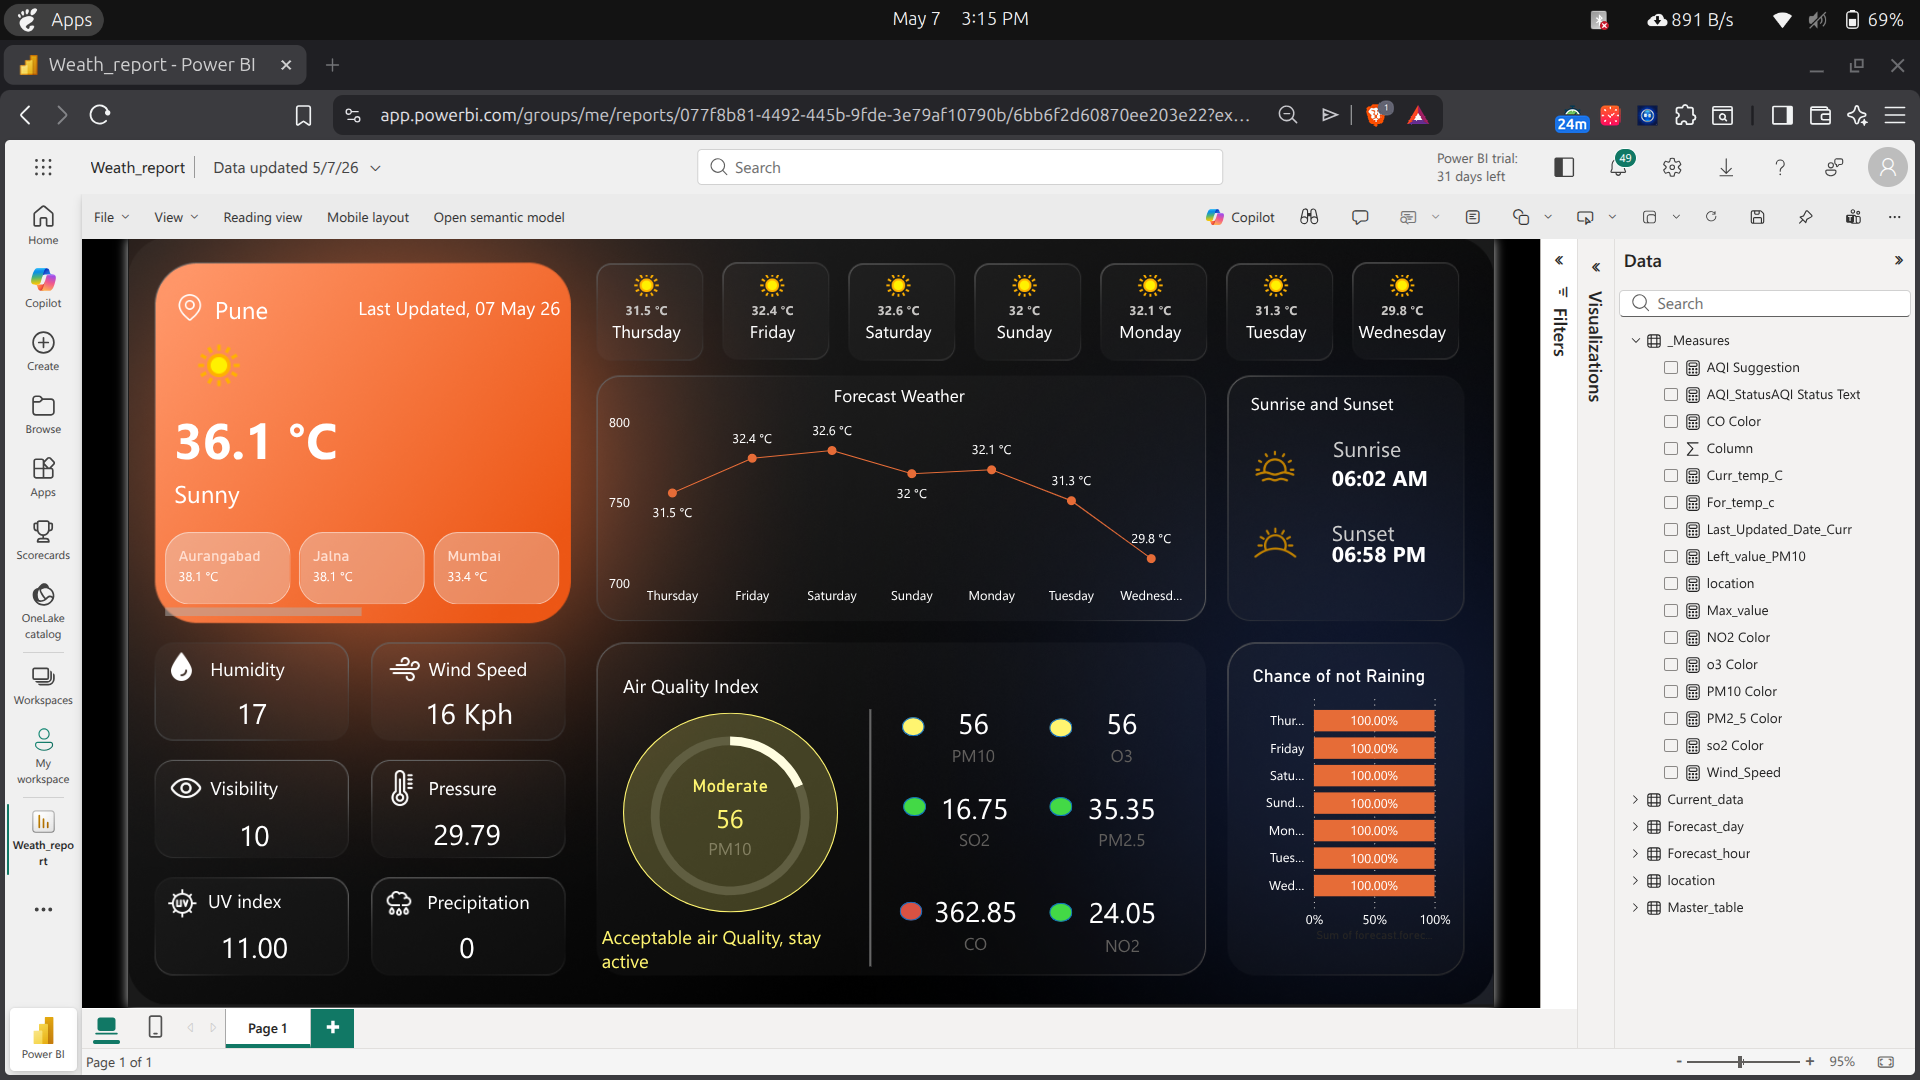

The page's visual inventory and layout, read from the dashboard file:
{"tool":"powerbi","page":{"name":"Page 1","canvas":[1280,720],"ordinal":0},"visuals":[{"type":"advancedSlicerVisual","fields":{"Values":["location.location.name"]},"box":[30,268.7,381.4,91.2],"z":0},{"type":"shape","box":[43.2,135.5,217.1,103.2],"z":1000},{"type":"shape","box":[43.2,221.9,166.7,32.4],"z":2000},{"type":"shape","box":[206.3,44.4,207.5,38.4],"z":3000},{"type":"shape","box":[81.6,49.2,141.5,33.6],"z":4000},{"type":"image","box":[34.8,51.6,46.8,25.2],"z":5000},{"type":"cardVisual","fields":{"Data":["Min(Current_data.current.condition.icon)"]},"box":[19.2,66,133.1,104.4],"z":6000},{"type":"image","box":[34.8,497.8,39.6,33.6],"z":7000},{"type":"image","box":[36,385,28.8,32.4],"z":8000},{"type":"image","box":[236.3,387.4,45.6,30],"z":9000},{"type":"image","box":[231.5,497.8,50.4,33.6],"z":10000},{"type":"image","box":[24,608.1,52.8,28.8],"z":11000},{"type":"image","box":[236.3,608.1,36,28.8],"z":12000},{"type":"shape","box":[76.8,385,123.5,34.8],"z":13000},{"type":"shape","box":[281.9,385,123.5,34.8],"z":14000},{"type":"shape","box":[76.8,496.6,123.5,34.8],"z":15000},{"type":"shape","box":[281.9,496.6,123.5,34.8],"z":16000},{"type":"shape","box":[74.4,602.2,123.5,34.8],"z":17000},{"type":"shape","box":[280.7,603.3,123.5,34.8],"z":18000},{"type":"shape","box":[586.6,238.7,217.1,103.2],"z":19000},{"type":"cardVisual","fields":{"Data":["Sum(Current_data.current.humidity)"]},"box":[34.8,417.4,163.1,51.6],"z":20000},{"type":"cardVisual","fields":{"Data":["_Measures.Wind_Speed"]},"box":[236.3,417.4,167.9,51.6],"z":21000},{"type":"cardVisual","fields":{"Data":["Sum(Current_data.current.uv)"]},"box":[37.2,636.9,163.1,51.6],"z":22000},{"type":"cardVisual","fields":{"Data":["Sum(Current_data.current.pressure_in)"]},"box":[236.3,529,163.1,54],"z":23000},{"type":"cardVisual","fields":{"Data":["Sum(Current_data.current.precip_in)"]},"box":[236.3,636.9,163.1,51.6],"z":24000},{"type":"cardVisual","fields":{"Data":["Sum(Current_data.current.vis_km)"]},"box":[37.2,531.4,163.1,51.6],"z":25000},{"type":"advancedSlicerVisual","fields":{"Values":["Forecast_day.Day_Name"]},"box":[425.8,27.4,832.7,88.5],"z":26000},{"type":"lineChart","title":"Forecast Weather","fields":{"Y":["Sum(Forecast_day.forecast.forecastday.day.avgtemp_c)"],"Category":["Forecast_day.Day_Name"]},"box":[444.8,136,555.5,216.1],"z":27000},{"type":"shape","box":[1051.9,136,167.6,34.8],"z":28000},{"type":"shape","box":[1128.3,178,115.9,34.8],"z":29000},{"type":"shape","box":[1127.8,238.1,117,72.7],"z":30000},{"type":"shape","box":[1127.3,200.1,115.9,46.4],"z":31000},{"type":"shape","box":[1127.9,258.3,117,72.7],"z":32000},{"type":"image","box":[1051.9,195,45.3,35.8],"z":33000},{"type":"image","box":[1048.7,258.2,52.7,52.7],"z":34000},{"type":"hundredPercentStackedBarChart","title":"Chance of not Raining","fields":{"Y":["Sum(Forecast_day.forecast.forecastday.astro.is_moon_up)"],"Category":["Forecast_day.Day_Name"]},"box":[1048.7,401.6,195,261.4],"z":35000},{"type":"shape","box":[463.8,400.5,167.6,34.8],"z":36000},{"type":"cardVisual","title":"ihpipi","fields":{"Data":["Sum(Current_data.current.air_quality.o3)"]},"box":[862.5,426.1,138.7,78.9],"z":37000},{"type":"cardVisual","title":"ihpipi","fields":{"Data":["Sum(Current_data.current.air_quality.no2)"]},"box":[862.4,603.3,139.1,79.2],"z":38000},{"type":"cardVisual","title":"ihpipi","fields":{"Data":["Sum(Current_data.current.air_quality.pm2_5)"]},"box":[862.5,505,138.7,78.9],"z":39000},{"type":"cardVisual","title":"ihpipi","fields":{"Data":["Sum(Current_data.current.air_quality.pm10)"]},"box":[722.5,426.1,138.7,78.9],"z":40000},{"type":"cardVisual","title":"ihpipi","fields":{"Data":["Sum(Current_data.current.air_quality.so2)"]},"box":[723.8,505,138.7,78.9],"z":41000},{"type":"cardVisual","title":"ihpipi","fields":{"Data":["Sum(Current_data.current.air_quality.co)"]},"box":[725.1,601.7,138.7,78.9],"z":42000},{"type":"shape","box":[723,620.8,21.1,17.9],"z":43000},{"type":"shape","box":[725.2,448,21.1,17.9],"z":44000},{"type":"shape","box":[725.7,523,21.6,18],"z":45000},{"type":"shape","box":[863.6,448.6,21.6,18],"z":46000},{"type":"shape","box":[863.6,523,21.6,18],"z":47000},{"type":"shape","box":[863.6,621.3,21.6,18],"z":48000},{"type":"shape","box":[618.9,440.2,153.5,241.1],"z":49000},{"type":"cardVisual","fields":{"Data":["Sum(Current_data.current.air_quality.pm10)"]},"box":[495.4,505,137.9,78],"z":50000},{"type":"donutChart","title":"ihpipi","fields":{"Y":["Sum(Current_data.current.air_quality.pm10)","_Measures.Left_value_PM10"]},"box":[471.4,447.4,185.9,187.1],"z":51000},{"type":"shape","box":[464.2,443.8,201.5,187.1],"z":52000},{"type":"shape","box":[443.8,639.3,241.1,50.4],"z":53000}]}

Visuals, with their boxes on the page's 1280x720 design canvas (x1, y1, x2, y2). These are canvas units, not pixel positions in the 1920x1080 screenshot, which may show the page scaled, cropped or inside an application window:
advancedSlicerVisual - location.location.name: BBox(30, 269, 411, 360)
shape: BBox(43, 136, 260, 239)
shape: BBox(43, 222, 210, 254)
shape: BBox(206, 44, 414, 83)
shape: BBox(82, 49, 223, 83)
image: BBox(35, 52, 82, 77)
cardVisual - Min(Current_data.current.condition.icon): BBox(19, 66, 152, 170)
image: BBox(35, 498, 74, 531)
image: BBox(36, 385, 65, 417)
image: BBox(236, 387, 282, 417)
image: BBox(232, 498, 282, 531)
image: BBox(24, 608, 77, 637)
image: BBox(236, 608, 272, 637)
shape: BBox(77, 385, 200, 420)
shape: BBox(282, 385, 405, 420)
shape: BBox(77, 497, 200, 531)
shape: BBox(282, 497, 405, 531)
shape: BBox(74, 602, 198, 637)
shape: BBox(281, 603, 404, 638)
shape: BBox(587, 239, 804, 342)
cardVisual - Sum(Current_data.current.humidity): BBox(35, 417, 198, 469)
cardVisual - _Measures.Wind_Speed: BBox(236, 417, 404, 469)
cardVisual - Sum(Current_data.current.uv): BBox(37, 637, 200, 688)
cardVisual - Sum(Current_data.current.pressure_in): BBox(236, 529, 399, 583)
cardVisual - Sum(Current_data.current.precip_in): BBox(236, 637, 399, 688)
cardVisual - Sum(Current_data.current.vis_km): BBox(37, 531, 200, 583)
advancedSlicerVisual - Forecast_day.Day_Name: BBox(426, 27, 1258, 116)
"Forecast Weather" lineChart: BBox(445, 136, 1000, 352)
shape: BBox(1052, 136, 1220, 171)
shape: BBox(1128, 178, 1244, 213)
shape: BBox(1128, 238, 1245, 311)
shape: BBox(1127, 200, 1243, 246)
shape: BBox(1128, 258, 1245, 331)
image: BBox(1052, 195, 1097, 231)
image: BBox(1049, 258, 1101, 311)
"Chance of not Raining" hundredPercentStackedBarChart: BBox(1049, 402, 1244, 663)
shape: BBox(464, 400, 631, 435)
"ihpipi" cardVisual: BBox(862, 426, 1001, 505)
"ihpipi" cardVisual: BBox(862, 603, 1002, 682)
"ihpipi" cardVisual: BBox(862, 505, 1001, 584)
"ihpipi" cardVisual: BBox(722, 426, 861, 505)
"ihpipi" cardVisual: BBox(724, 505, 862, 584)
"ihpipi" cardVisual: BBox(725, 602, 864, 681)
shape: BBox(723, 621, 744, 639)
shape: BBox(725, 448, 746, 466)
shape: BBox(726, 523, 747, 541)
shape: BBox(864, 449, 885, 467)
shape: BBox(864, 523, 885, 541)
shape: BBox(864, 621, 885, 639)
shape: BBox(619, 440, 772, 681)
cardVisual - Sum(Current_data.current.air_quality.pm10): BBox(495, 505, 633, 583)
"ihpipi" donutChart: BBox(471, 447, 657, 634)
shape: BBox(464, 444, 666, 631)
shape: BBox(444, 639, 685, 690)
